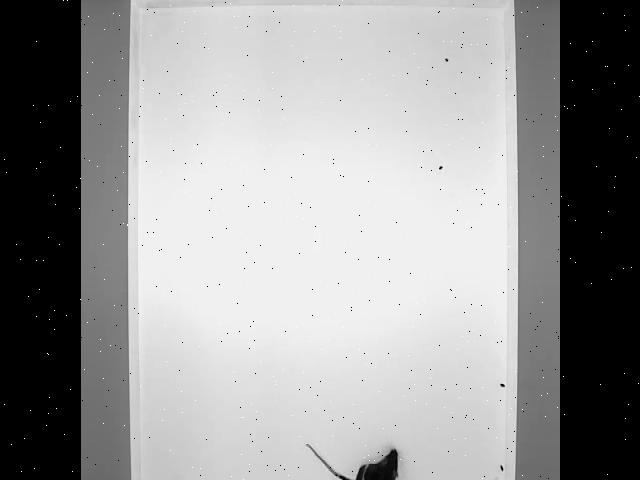Tikus: (299, 443, 403, 480)
